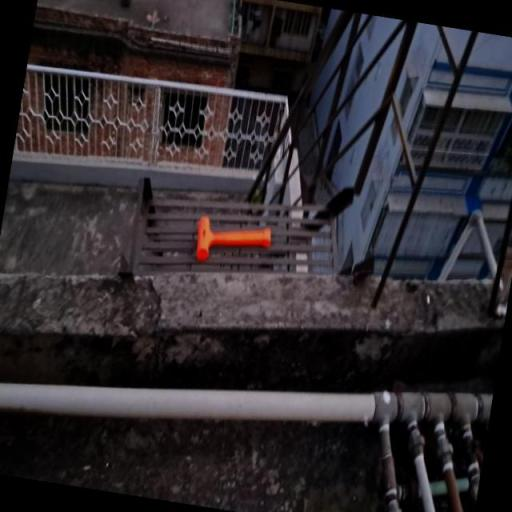mallet: (192, 218, 274, 270)
